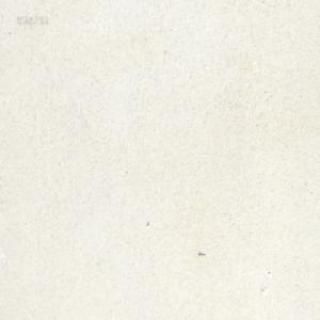Nailtrack_idkeyframe: (197, 249, 205, 255)
